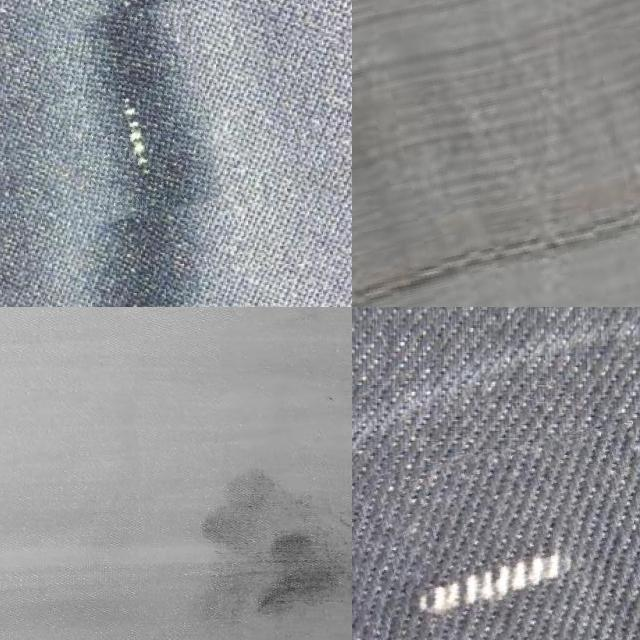Thread_other: (186, 464, 352, 640)
stains: (352, 0, 640, 307), (352, 436, 640, 640), (50, 5, 212, 221)
